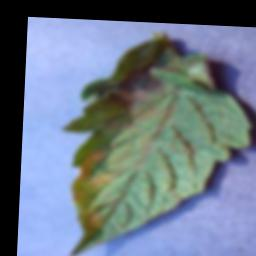Leaf_Mold: (68, 148, 119, 235)
